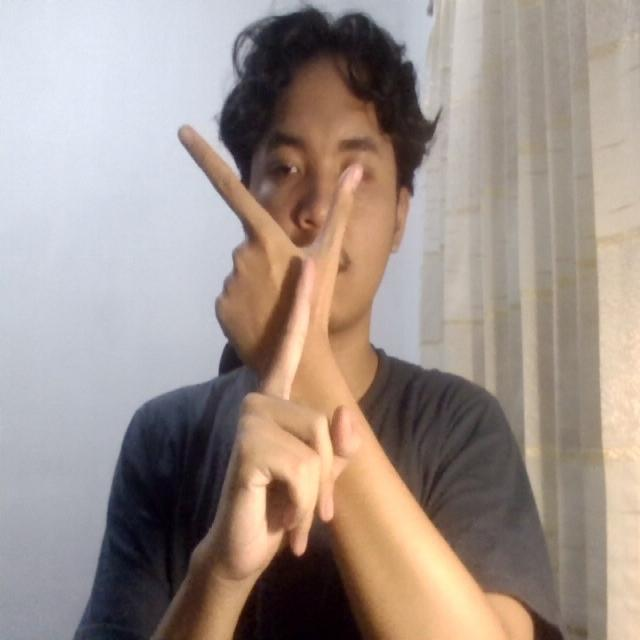No: (157, 103, 403, 569)
